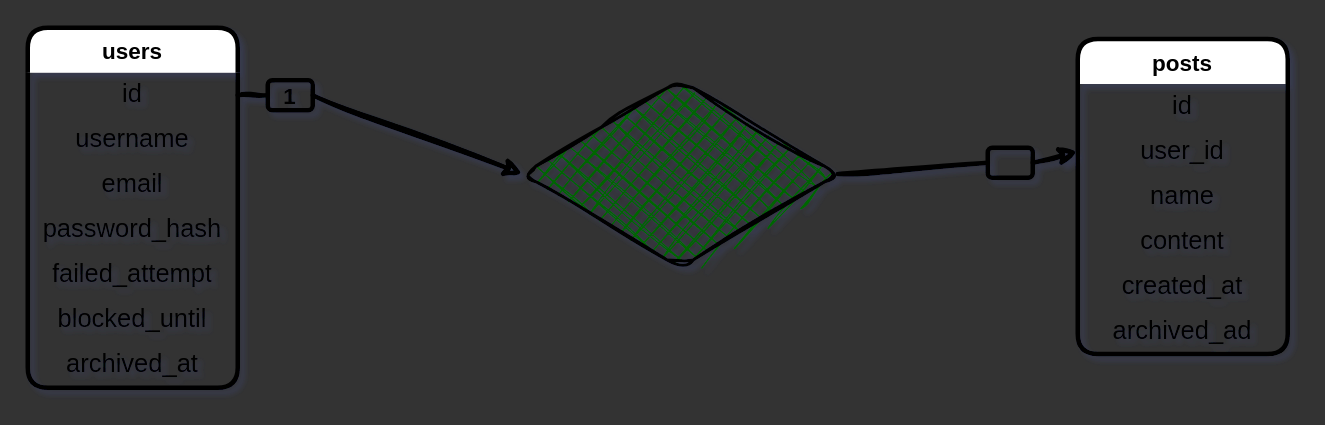
Some shapes in this 1325 by 425 pixel diagram are drawn without their labels. The centre of each missing label's shape, as x and y in pixels:
0,N: (1009,162)
Possède: (679,173)
